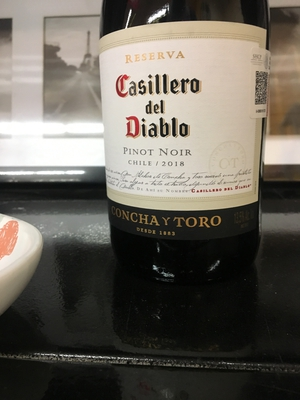casillero del diablo pinot noir: (93, 10, 285, 280)
